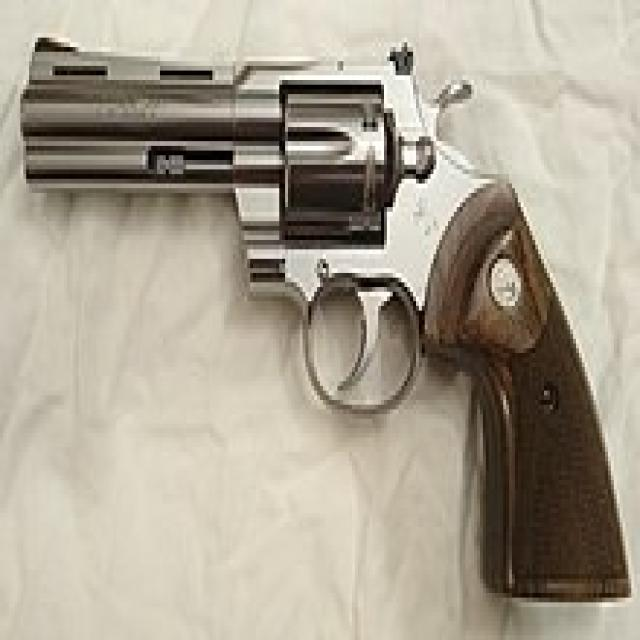handgun: (14, 28, 635, 611)
